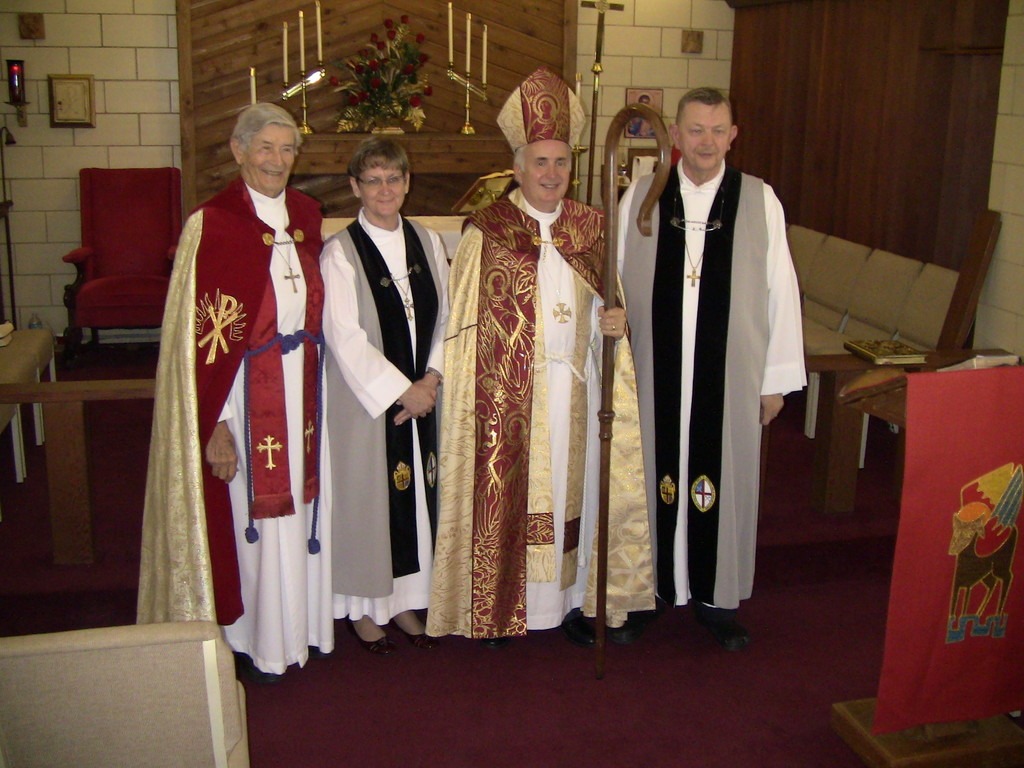Person: (423, 64, 654, 645), (613, 87, 808, 654), (137, 101, 325, 682), (318, 135, 453, 656)
